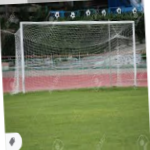goals: (12, 19, 140, 94)
